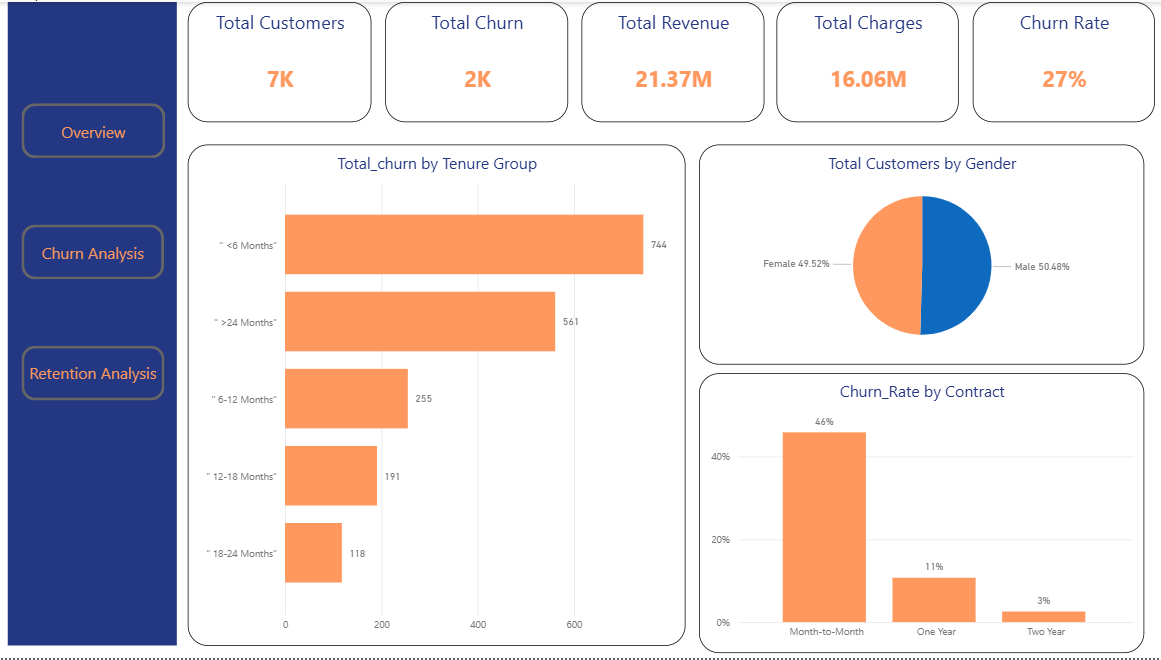

The page's visual inventory and layout, read from the dashboard file:
{"tool":"powerbi","page":{"name":"Overview","canvas":[1280,720],"ordinal":0},"visuals":[{"type":"textbox","box":[9.6,0,185.2,706.7],"z":0},{"type":"actionButton","box":[24.7,111.1,157.8,60.4],"z":1000},{"type":"actionButton","box":[24.7,244.3,156.4,60.4],"z":2000},{"type":"actionButton","box":[24.7,377.4,157,60],"z":3000},{"type":"cardVisual","title":"Total Customers","fields":{"Data":["DAX_Measures.Total Customers"]},"box":[207.2,0,201.7,131.7],"z":4000},{"type":"cardVisual","title":"Total Churn","fields":{"Data":["DAX_Measures.Total_churn"]},"box":[423.3,0,201,131.7],"z":5000},{"type":"cardVisual","title":"Total Revenue","fields":{"Data":["DAX_Measures.Total Revenue"]},"box":[638.8,0,201,131.7],"z":6000},{"type":"cardVisual","title":"Total Charges","fields":{"Data":["DAX_Measures.Total Charges"]},"box":[854.2,0,200.3,131.7],"z":7000},{"type":"cardVisual","title":"Churn Rate","fields":{"Data":["DAX_Measures.Churn_Rate"]},"box":[1069,0,200.3,131.7],"z":8000},{"type":"clusteredBarChart","fields":{"Y":["DAX_Measures.Total_churn"],"Category":["telecom_customer_churn.Tenure Group"]},"box":[207.2,156.4,546.1,550.3],"z":9000},{"type":"pieChart","fields":{"Y":["DAX_Measures.Total Customers"],"Category":["telecom_customer_churn.Gender"]},"box":[768.4,156.4,488.5,241.5],"z":9001},{"type":"columnChart","fields":{"Category":["telecom_customer_churn.Contract"],"Y":["DAX_Measures.Churn_Rate"]},"box":[768.4,407.5,488.5,307.4],"z":9002}]}

Visuals, with their boxes in screenshot pixels (x1, y1, x2, y2), scaled from the page's 1280x720 canvas onto the 1161x660 screenshot:
textbox: crop(9, 0, 177, 648)
actionButton: crop(22, 102, 166, 157)
actionButton: crop(22, 224, 164, 279)
actionButton: crop(22, 346, 165, 401)
"Total Customers" cardVisual: crop(188, 0, 371, 121)
"Total Churn" cardVisual: crop(384, 0, 566, 121)
"Total Revenue" cardVisual: crop(579, 0, 762, 121)
"Total Charges" cardVisual: crop(775, 0, 956, 121)
"Churn Rate" cardVisual: crop(970, 0, 1151, 121)
clusteredBarChart - DAX_Measures.Total_churn x telecom_customer_churn.Tenure Group: crop(188, 143, 683, 648)
pieChart - DAX_Measures.Total Customers x telecom_customer_churn.Gender: crop(697, 143, 1140, 365)
columnChart - telecom_customer_churn.Contract x DAX_Measures.Churn_Rate: crop(697, 374, 1140, 655)
